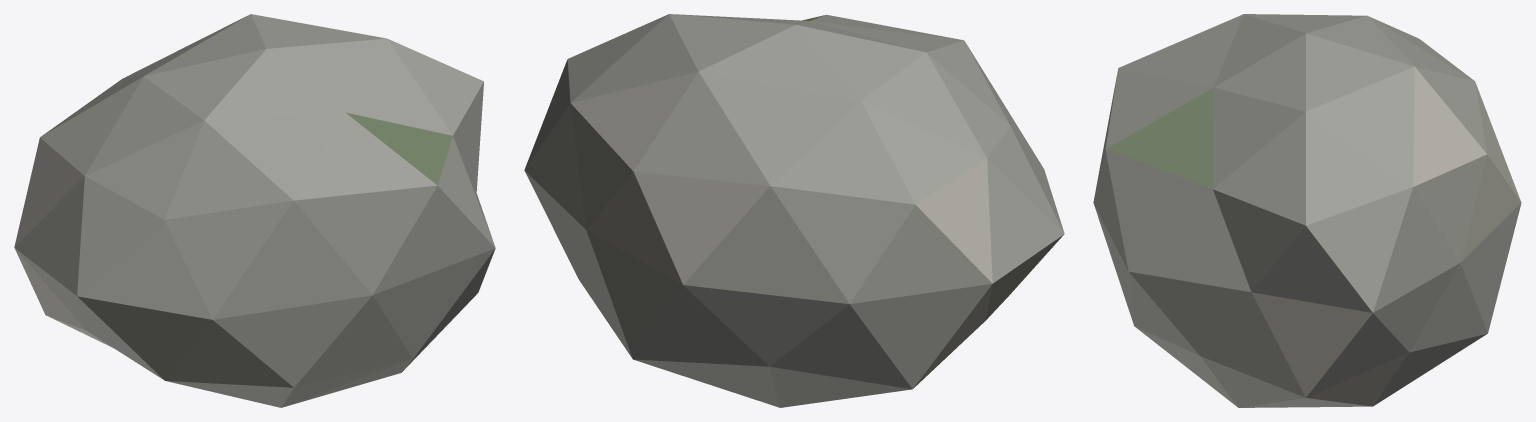
The model's file is large_boulder_b.glb.
3 renders of one model, left to right at view 1: azimuth 30°, elevation 25°; view 2: azimuth 150°, elevation 25°; view 3: azimuth 270°, elevation 25°, orthographic. The views are drawn at different scales.
Visible parts, largest first — view 1: large_boulder_b LOD0; view 2: large_boulder_b LOD0; view 3: large_boulder_b LOD0.
Boxes of the visible parts, <box> form: large_boulder_b LOD0: <box>14,14,495,407</box>; large_boulder_b LOD0: <box>524,14,1064,407</box>; large_boulder_b LOD0: <box>1093,14,1521,407</box>.
Size of what is drawn, in the model's own units: 4.69 by 3.5 by 3.87.
